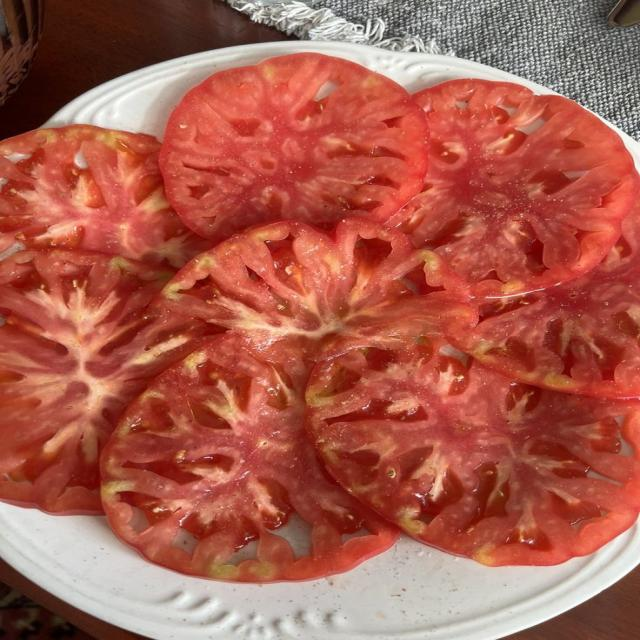sliced tomatoe: (100, 335, 398, 582), (307, 345, 639, 565), (0, 250, 209, 512), (402, 79, 639, 296), (160, 53, 428, 240), (161, 219, 476, 358), (454, 212, 639, 397), (0, 125, 210, 267)
